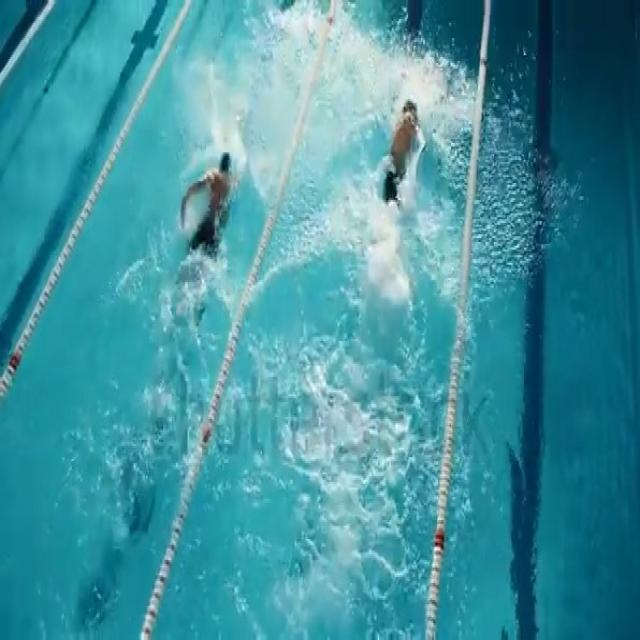swimming: (163, 118, 246, 269), (365, 74, 438, 244)
